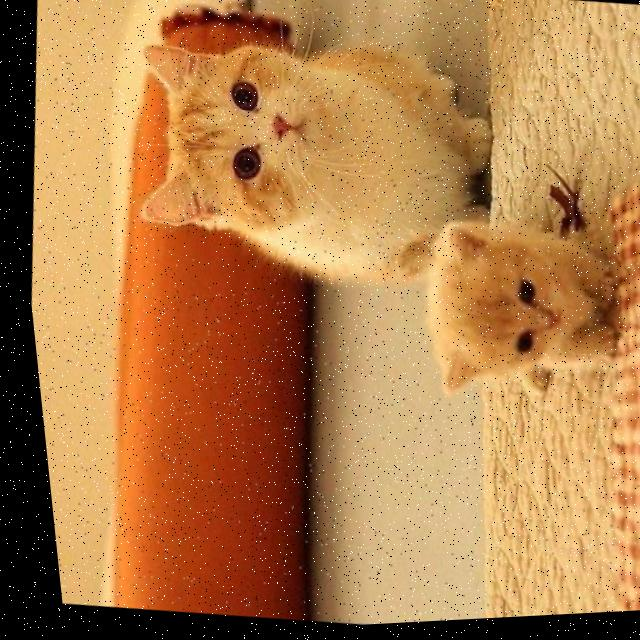Cats: (98, 1, 495, 341), (388, 175, 640, 423)
